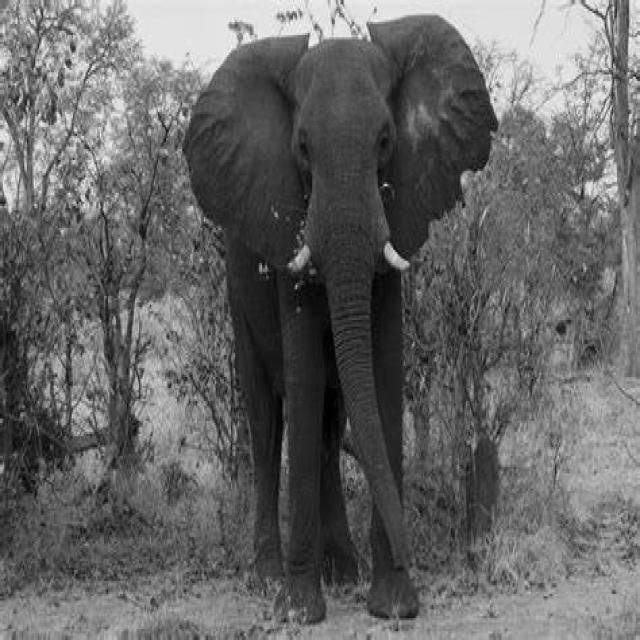Elephant: (181, 13, 498, 623)
